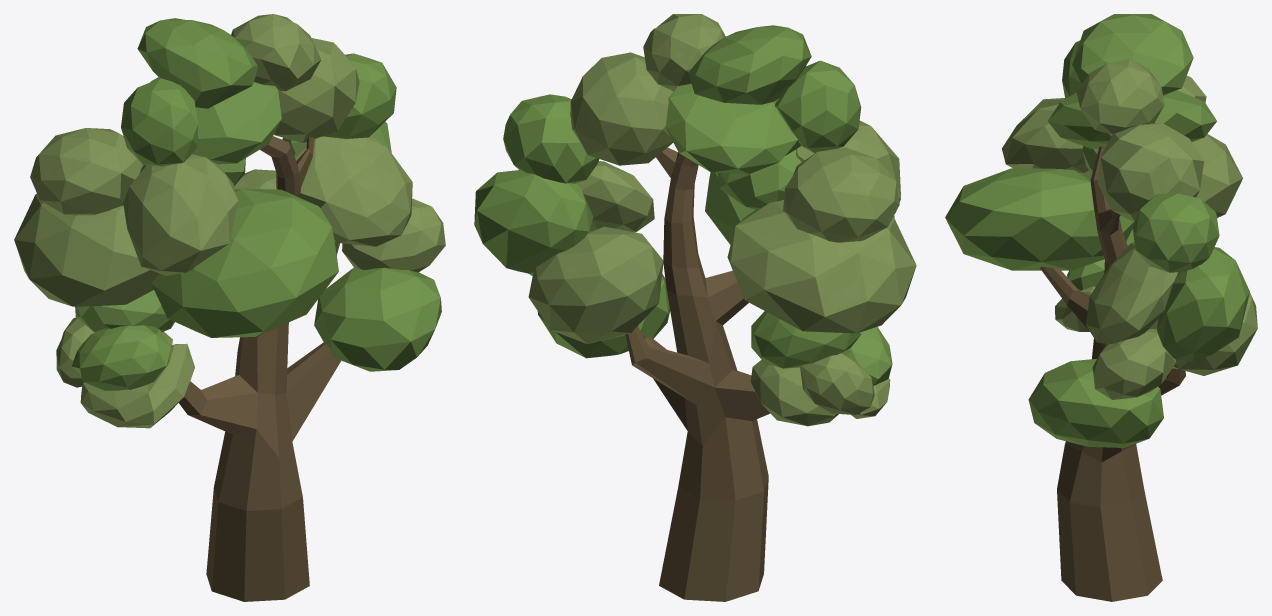
The model's file is tree.gltf.
3 views of the same model, side by side, from view 1: azimuth 30°, elevation 25°; view 2: azimuth 150°, elevation 25°; view 3: azimuth 270°, elevation 25° (orthographic). The views are drawn at different scales.
Parts seen in each view (by area): view 1: Oak; view 2: Oak; view 3: Oak.
Boxes of the visible parts, box(x1,y1,x2,y2) form: Oak: box(14, 14, 445, 601); Oak: box(474, 14, 916, 601); Oak: box(945, 14, 1257, 601).
Size of the model in its own units: 3.96 by 5.31 by 2.84.
Materials: 1 (1 with a texture image).
